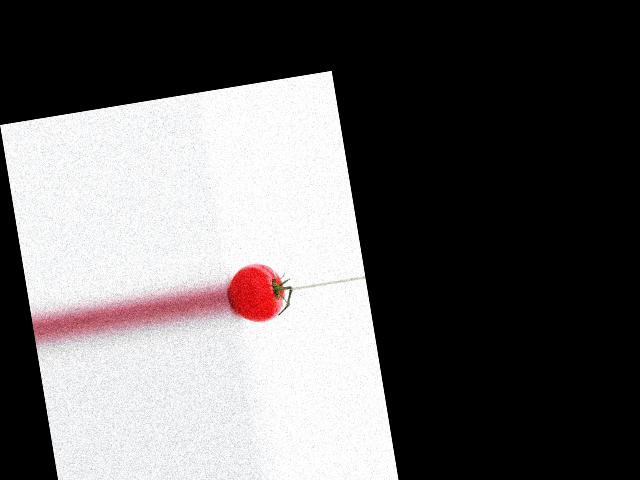tomato: (224, 258, 288, 325)
